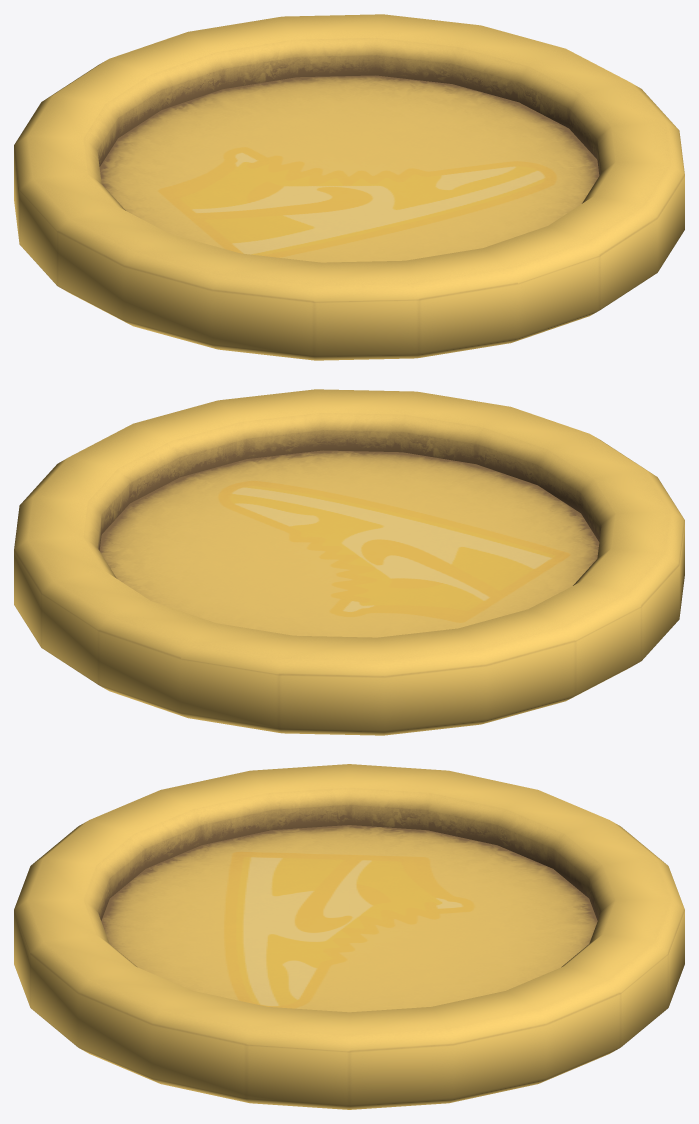
Rendered from KickCoin.fbx.
The picture shows the model from 3 angles, top to bottom: view 1: azimuth 30°, elevation 25°; view 2: azimuth 150°, elevation 25°; view 3: azimuth 270°, elevation 25°; orthographic projection.
Visible parts, largest first — view 1: KickCoin; view 2: KickCoin; view 3: KickCoin.
Part boxes in pixels (x1,y1,x2,y2): KickCoin: (14, 14, 684, 360); KickCoin: (14, 389, 684, 735); KickCoin: (14, 764, 684, 1109).
Size of the model in its own units: 200 by 24.38 by 200.
1 material, 1 textured.
